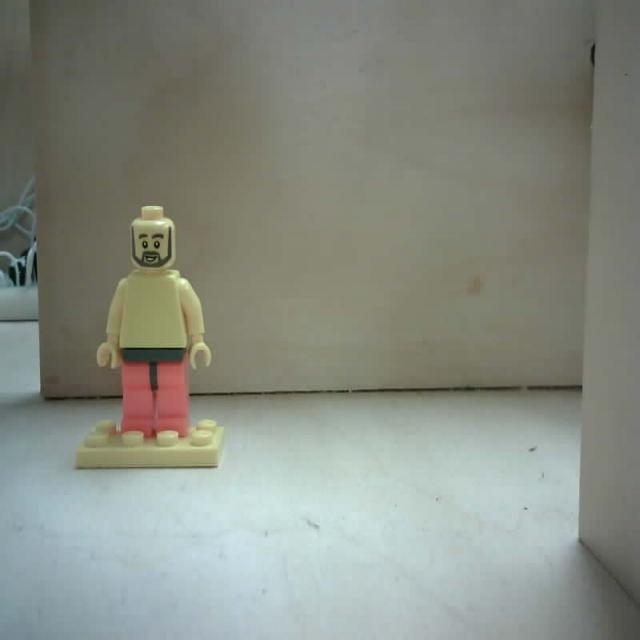Lego-People: (78, 206, 227, 474)
